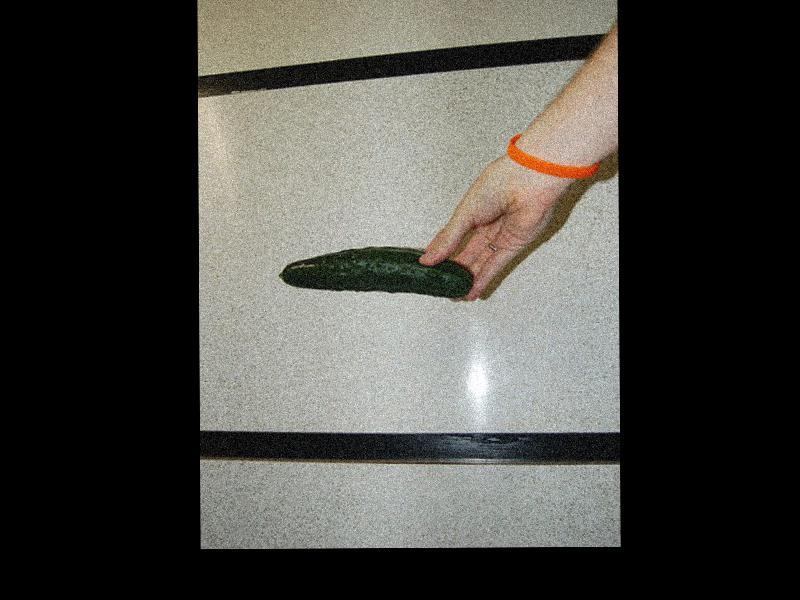Cucumber: (277, 248, 474, 299)
